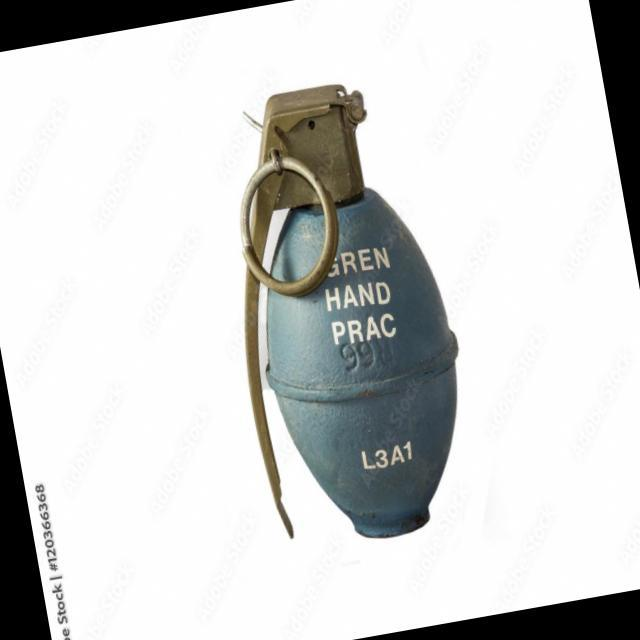grenade: (189, 51, 493, 568)
